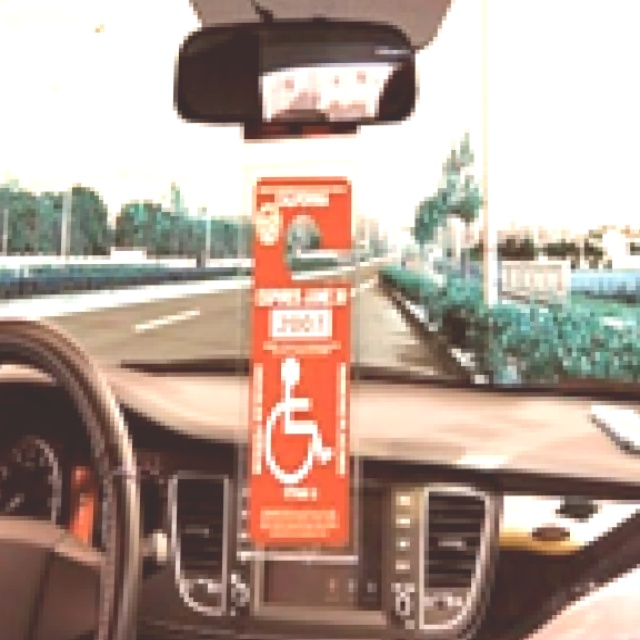ISA: (254, 352, 337, 493)
